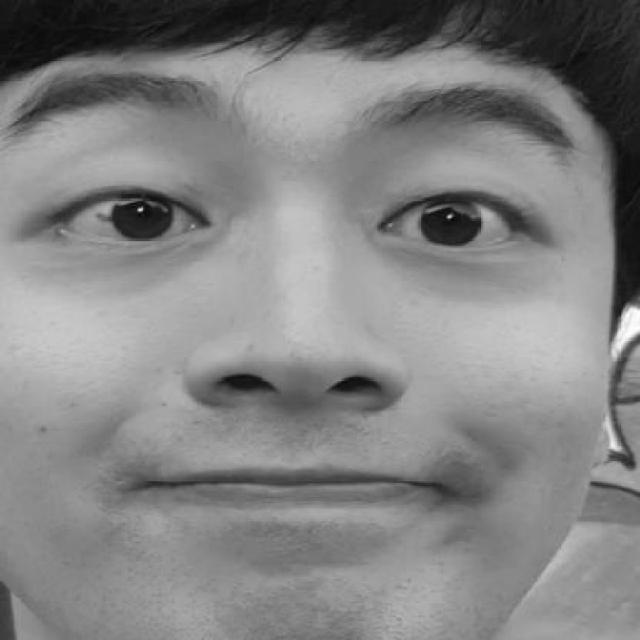happy: (0, 56, 578, 587)
